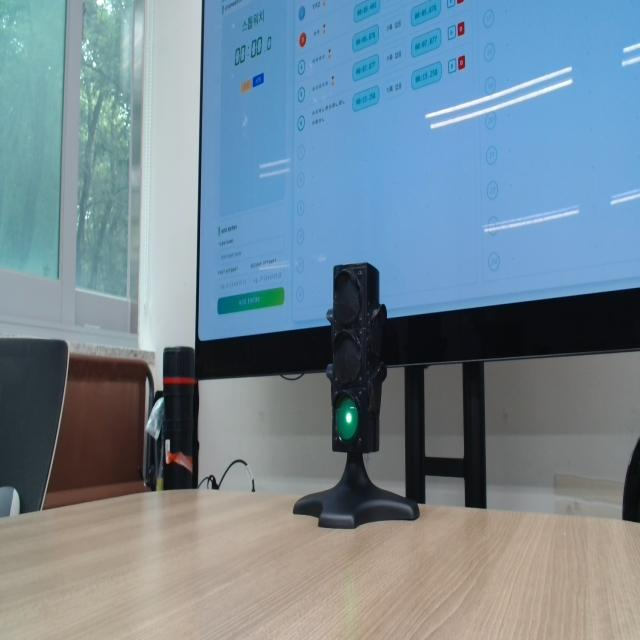green_light: (336, 396, 359, 443)
